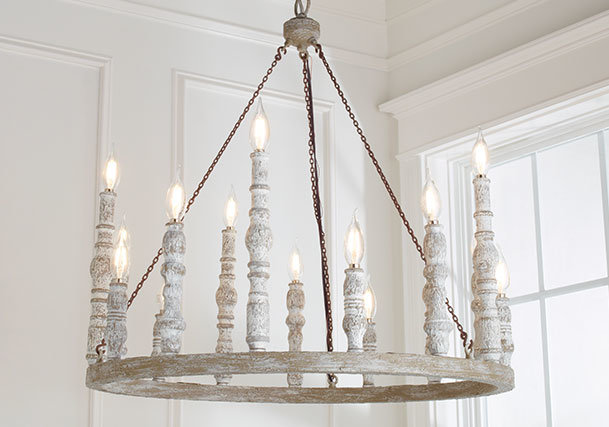chandelier: (81, 7, 524, 407)
